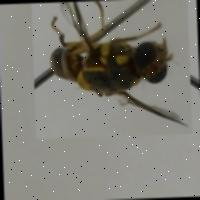Oriental-fruit-fly: (30, 0, 191, 138)
